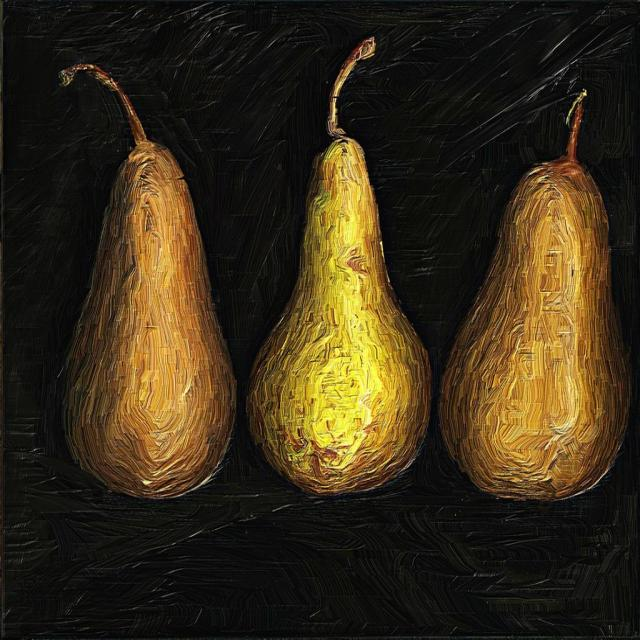pear: (437, 152, 632, 500), (247, 140, 432, 493), (59, 142, 238, 499)
